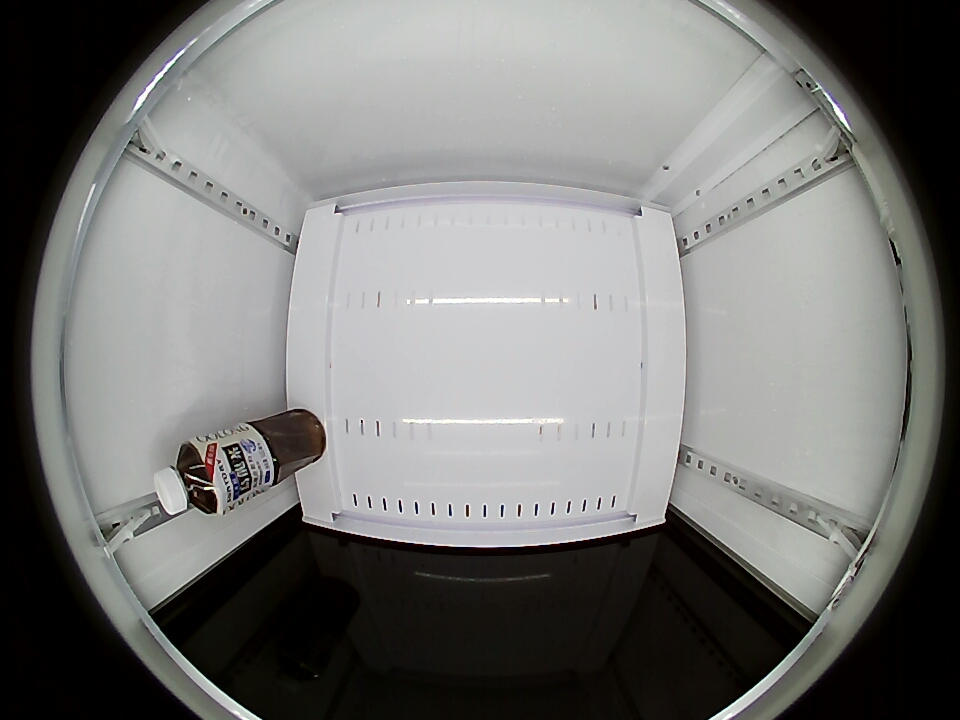wulongcha: (153, 437, 236, 516)
